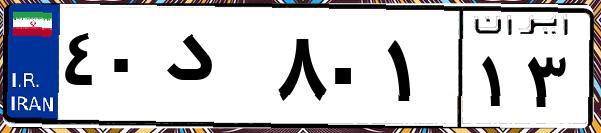0: (330, 28, 385, 110), (110, 28, 158, 98)
1: (385, 28, 445, 110), (475, 38, 525, 113)
3: (525, 38, 570, 115)
4: (57, 26, 110, 100)
8: (270, 28, 330, 110)
د: (158, 20, 270, 120)
